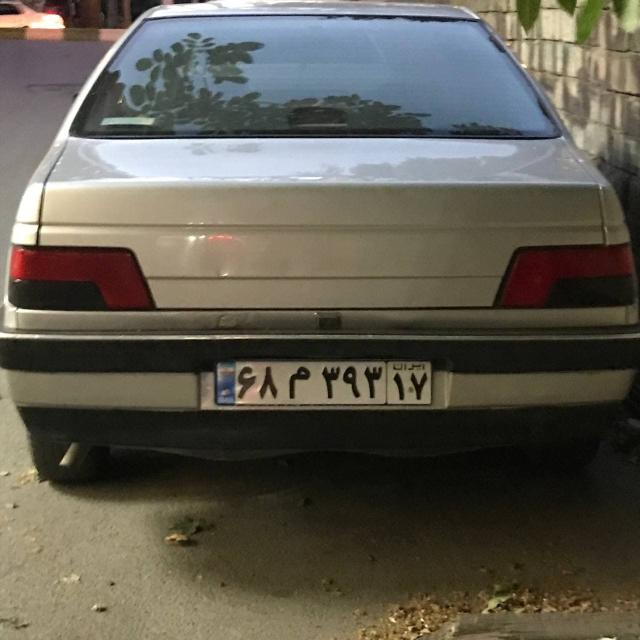Plates: (214, 360, 432, 406)
